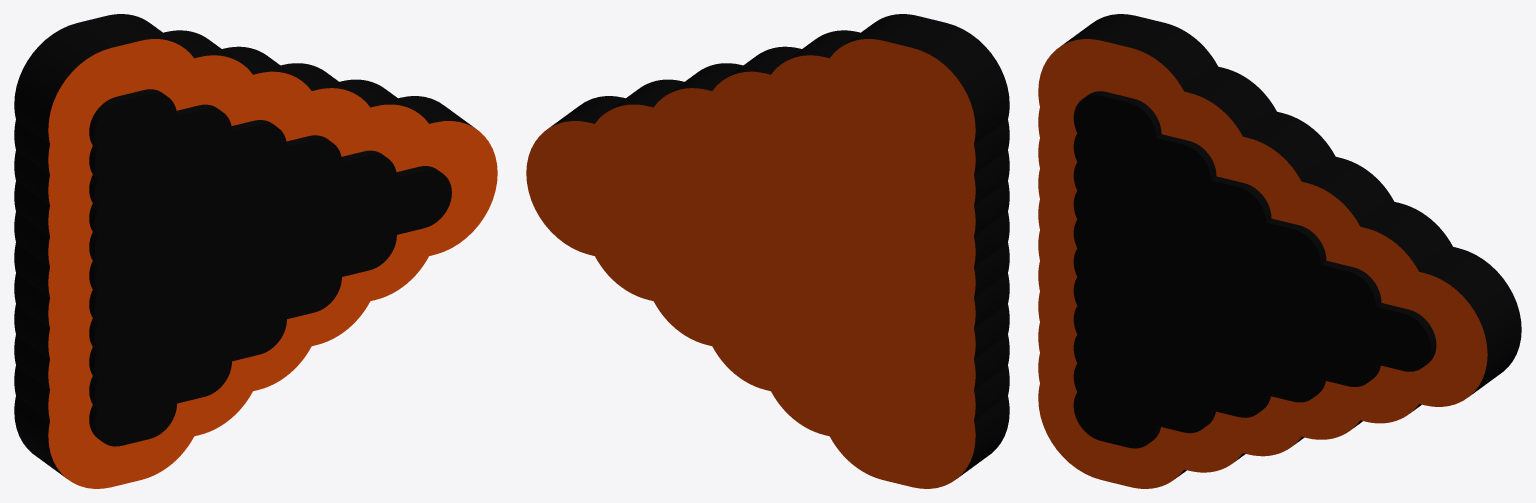
Rendered from play.glb.
3 views of the same model, side by side, from view 1: azimuth 30°, elevation 25°; view 2: azimuth 150°, elevation 25°; view 3: azimuth 330°, elevation 25° (orthographic).
Parts seen in each view (by area): view 1: Curve, Curve.001; view 2: Curve; view 3: Curve, Curve.001.
Part boxes in pixels (left/top/right/bottom): Curve: left=14, top=14, right=497, bottom=488; Curve.001: left=89, top=89, right=451, bottom=446; Curve: left=526, top=14, right=1009, bottom=488; Curve: left=1038, top=14, right=1521, bottom=488; Curve.001: left=1073, top=91, right=1436, bottom=448.
Bounding box in the file's own units: 0.2506 × 0.2341 × 0.0382.
